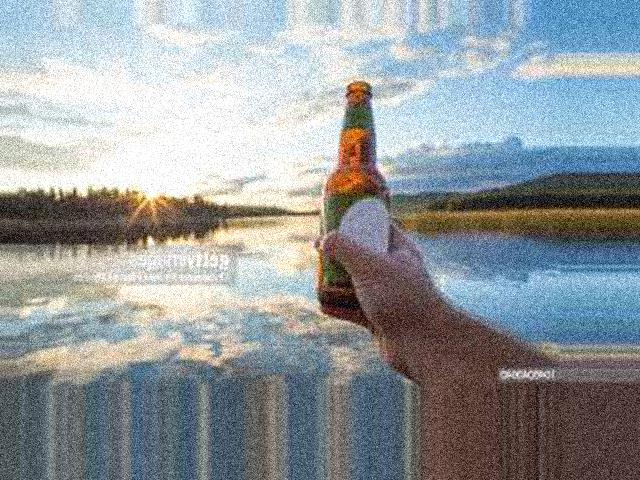beer: (315, 81, 391, 305)
